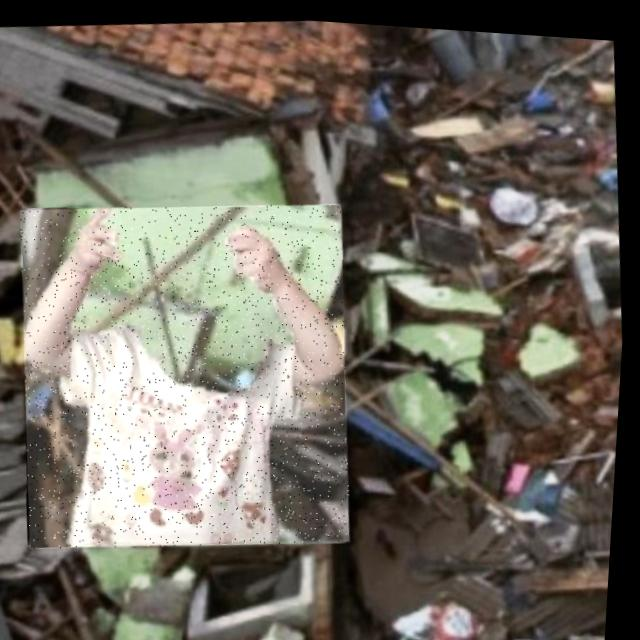Person in Rubble: (7, 181, 372, 564)
